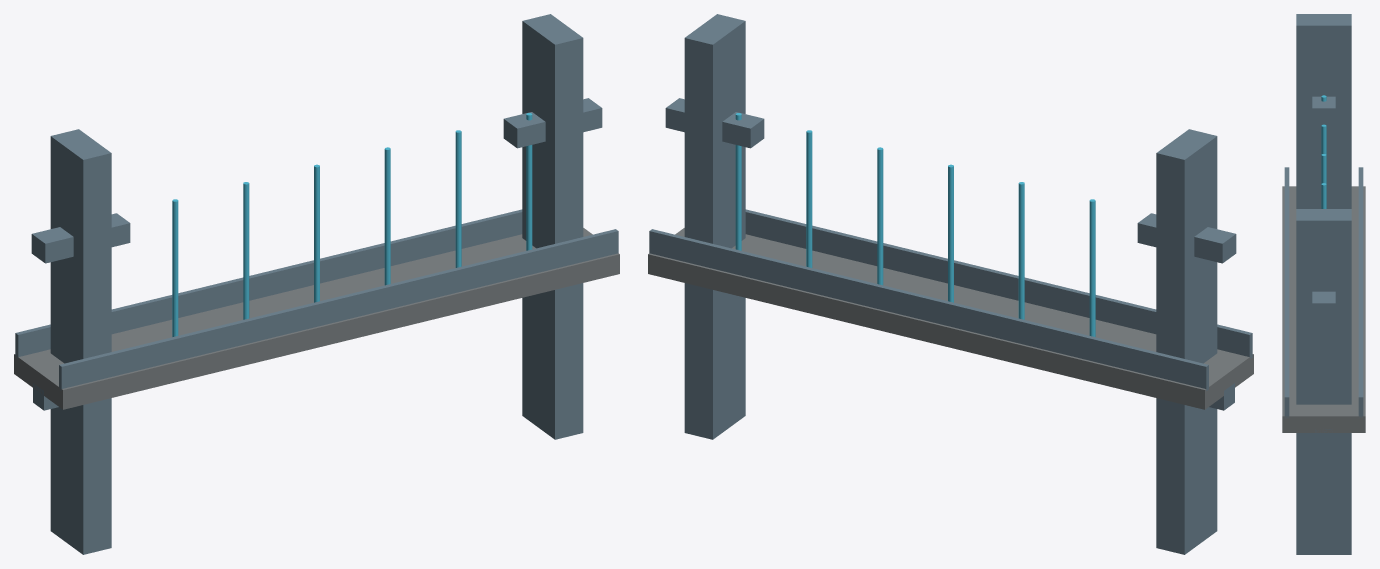
The model's file is 01_bridge.glb.
The picture shows the model from 3 angles, left to right: view 1: azimuth 30°, elevation 25°; view 2: azimuth 150°, elevation 25°; view 3: azimuth 270°, elevation 25°; orthographic projection. The views are drawn at different scales.
Visible parts, largest first — view 1: bridge_span_tower_-50, bridge_span_tower_+50, bridge_span_deck, bridge_span_left_rail, bridge_span_right_rail, bridge_span_cross_-50, bridge_span_cross_+50, bridge_span_hanger_-30, bridge_span_hanger_-15, bridge_span_hanger_+15, bridge_span_hanger_+30, bridge_span_hanger_+0 (+1 smaller); view 2: bridge_span_tower_-50, bridge_span_tower_+50, bridge_span_deck, bridge_span_right_rail, bridge_span_left_rail, bridge_span_cross_-50, bridge_span_cross_+50, bridge_span_hanger_-30, bridge_span_hanger_-15, bridge_span_hanger_+15, bridge_span_hanger_+30, bridge_span_hanger_+0 (+1 smaller); view 3: bridge_span_tower_+50, bridge_span_tower_-50, bridge_span_deck, bridge_span_left_rail, bridge_span_right_rail, bridge_span_cross_+50, bridge_span_cross_-50, bridge_span_spine, bridge_span_hanger_-30, bridge_span_hanger_-15, bridge_span_hanger_+0.
Boxes of the visible parts, x1=… form: bridge_span_tower_-50: x1=50, y1=129, x2=111, y2=554; bridge_span_tower_+50: x1=522, y1=14, x2=583, y2=439; bridge_span_deck: x1=14, y1=228, x2=619, y2=409; bridge_span_left_rail: x1=59, y1=229, x2=618, y2=390; bridge_span_right_rail: x1=15, y1=209, x2=522, y2=358; bridge_span_cross_-50: x1=31, y1=213, x2=130, y2=263; bridge_span_cross_+50: x1=503, y1=98, x2=602, y2=148; bridge_span_hanger_-30: x1=172, y1=199, x2=178, y2=336; bridge_span_hanger_-15: x1=243, y1=182, x2=249, y2=319; bridge_span_hanger_+15: x1=384, y1=147, x2=390, y2=285; bridge_span_hanger_+30: x1=455, y1=130, x2=461, y2=267; bridge_span_hanger_+0: x1=314, y1=164, x2=319, y2=302; bridge_span_tower_-50: x1=1156, y1=129, x2=1217, y2=554; bridge_span_tower_+50: x1=684, y1=14, x2=745, y2=439; bridge_span_deck: x1=648, y1=228, x2=1253, y2=409; bridge_span_right_rail: x1=649, y1=229, x2=1208, y2=390; bridge_span_left_rail: x1=745, y1=209, x2=1252, y2=358; bridge_span_cross_-50: x1=1137, y1=213, x2=1236, y2=263; bridge_span_cross_+50: x1=665, y1=98, x2=764, y2=148; bridge_span_hanger_-30: x1=1089, y1=199, x2=1095, y2=336; bridge_span_hanger_-15: x1=1018, y1=182, x2=1024, y2=319; bridge_span_hanger_+15: x1=877, y1=147, x2=883, y2=285; bridge_span_hanger_+30: x1=806, y1=130, x2=812, y2=267; bridge_span_hanger_+0: x1=948, y1=164, x2=953, y2=302; bridge_span_tower_+50: x1=1296, y1=209, x2=1351, y2=554; bridge_span_tower_-50: x1=1296, y1=14, x2=1351, y2=208; bridge_span_deck: x1=1282, y1=186, x2=1365, y2=432; bridge_span_left_rail: x1=1284, y1=167, x2=1289, y2=418; bridge_span_right_rail: x1=1358, y1=167, x2=1363, y2=417; bridge_span_cross_+50: x1=1312, y1=291, x2=1335, y2=319; bridge_span_cross_-50: x1=1312, y1=96, x2=1335, y2=125; bridge_span_spine: x1=1314, y1=429, x2=1333, y2=445; bridge_span_hanger_-30: x1=1321, y1=124, x2=1326, y2=154; bridge_span_hanger_-15: x1=1321, y1=154, x2=1326, y2=183; bridge_span_hanger_+0: x1=1321, y1=183, x2=1326, y2=208.
Bounding box in the file's own units: 118 × 80 × 18.
